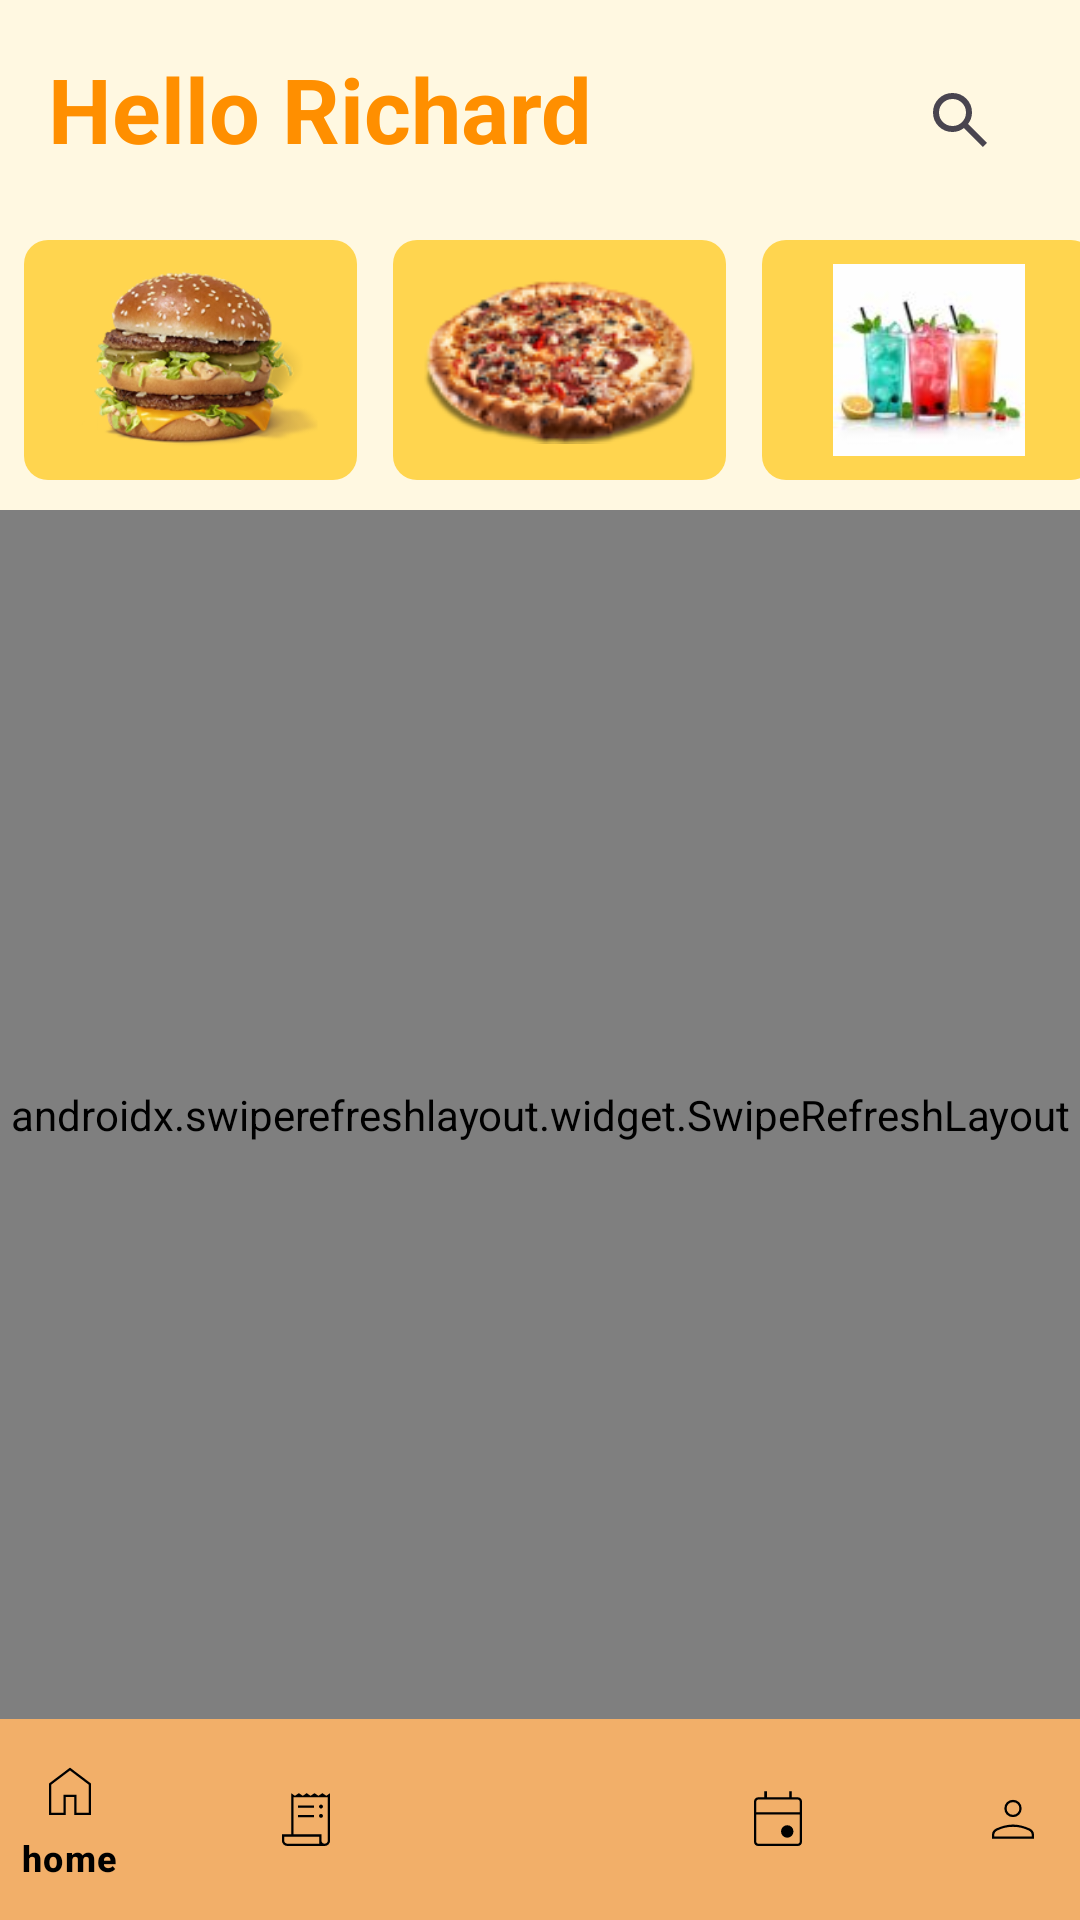

Where icons sit on this 1080*1920 app screen, as (x1, y1, x2, y2):
drinks menu: (762, 240, 1080, 480)
search: (933, 93, 987, 147)
